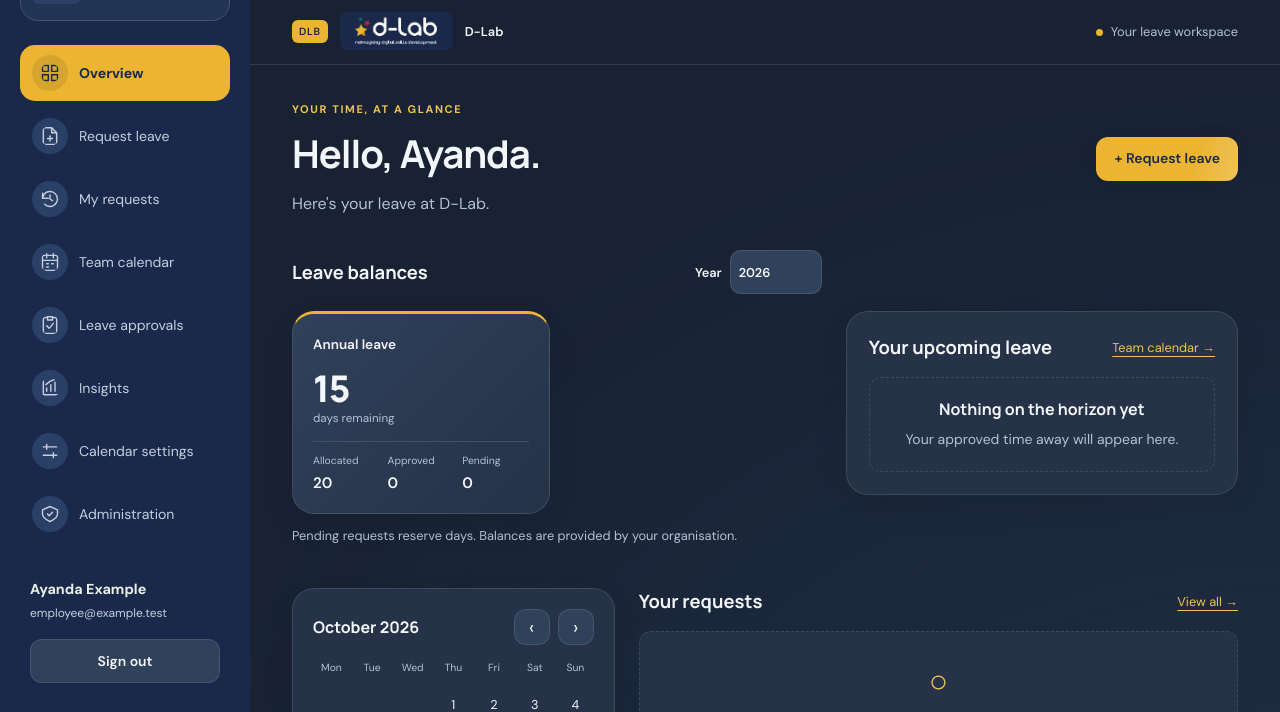
Scenario: Frontend integration flows › opens Insights from the sidebar for ADMIN
(page scrolled)
Click the link "Insights" at x=81, y=388, box x1=32 y1=370 x2=129 y2=406
(page scrolled)
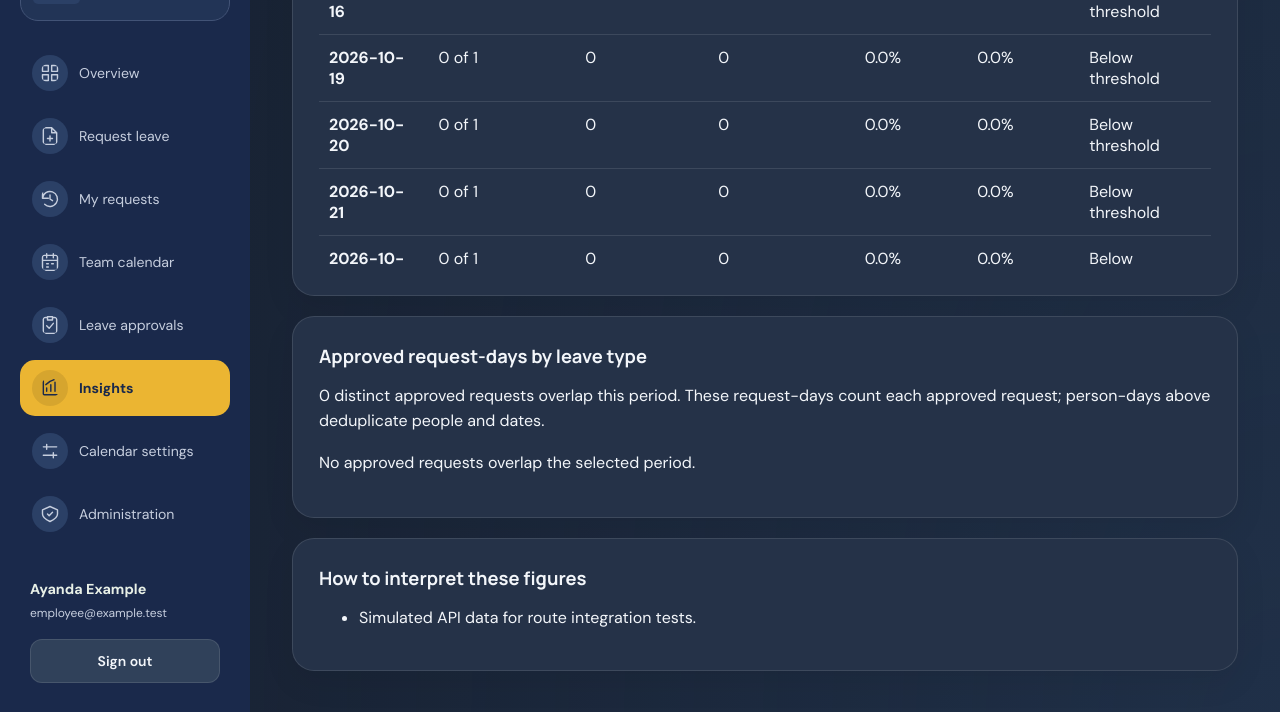
Expected: the heading "Approved request-days by leave type" is shown, x1=319 y1=343 x2=647 y2=369
